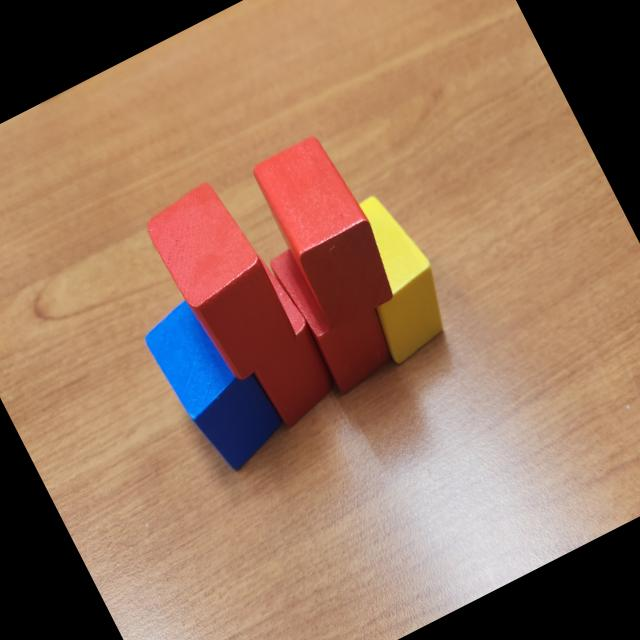blue: (136, 281, 297, 480)
red: (138, 175, 305, 388), (247, 129, 406, 331), (206, 248, 346, 432), (268, 226, 404, 398)
yellow: (316, 184, 467, 372)
